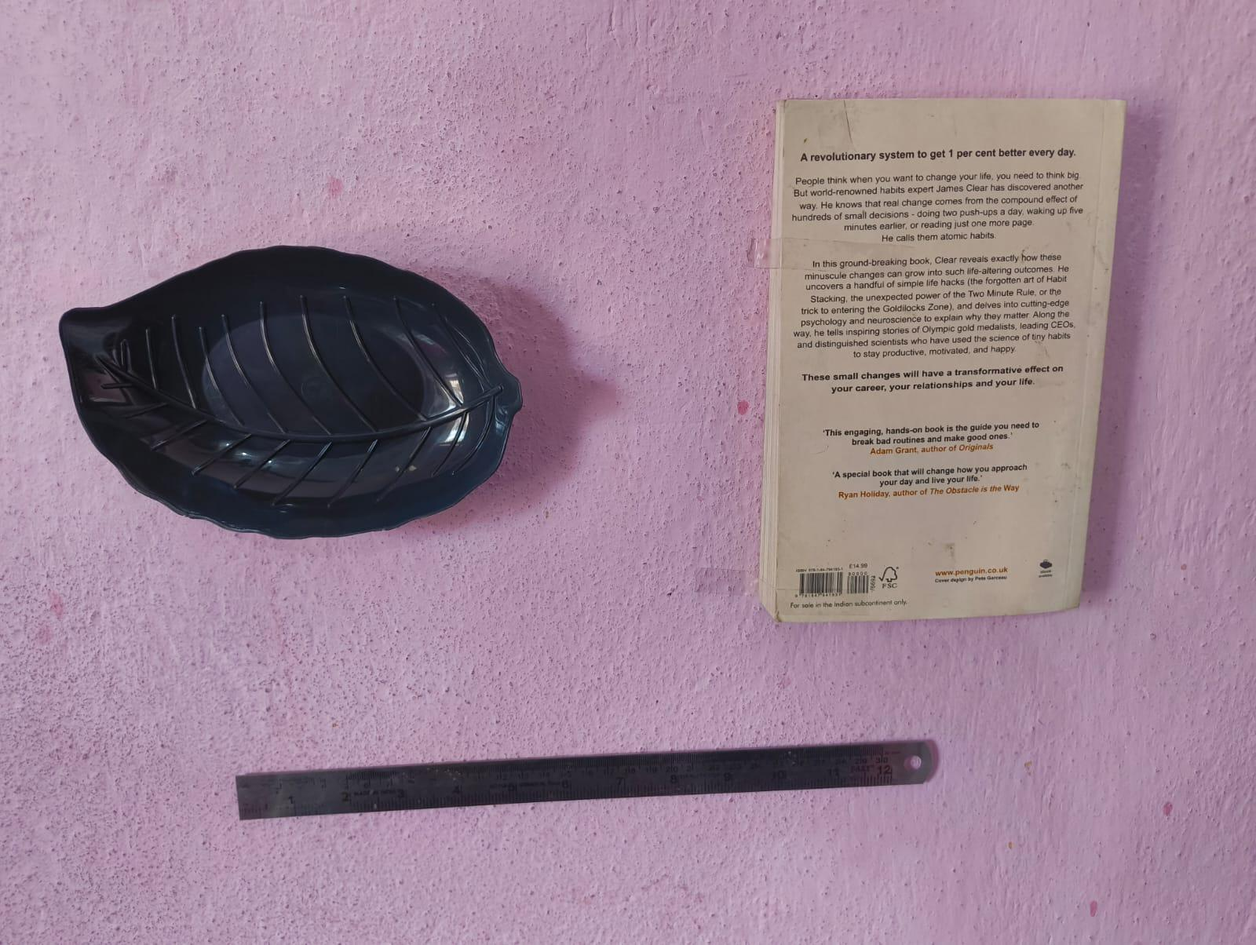Book: (754, 87, 1138, 638)
plate: (55, 242, 528, 540)
scale: (231, 726, 952, 826)
